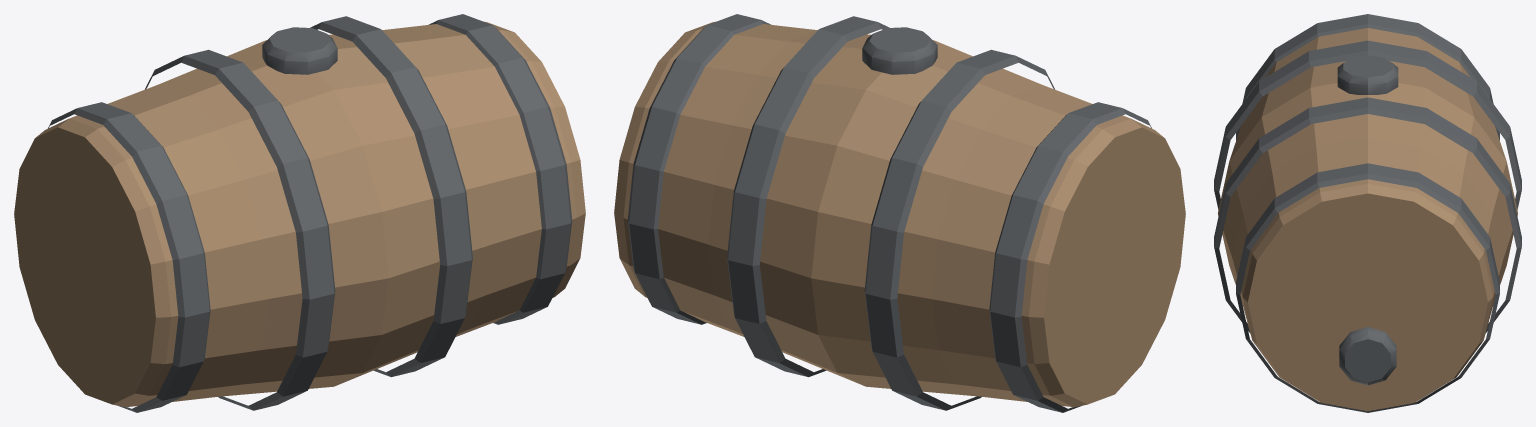
Rendered from bar-pub-and-brewery-taproom-cask-pin-56ca8c49__18353.glb.
The picture shows the model from 3 angles, left to right: view 1: azimuth 30°, elevation 25°; view 2: azimuth 150°, elevation 25°; view 3: azimuth 270°, elevation 25°; orthographic projection. The views are drawn at different scales.
Visible parts, largest first — view 1: cask-pin; view 2: cask-pin; view 3: cask-pin.
Part boxes in pixels (x1,y1,x2,y2): cask-pin: (14,14,585,412); cask-pin: (614,14,1185,412); cask-pin: (1214,14,1521,412).
Bounding box in the file's own units: 0.436 × 0.3157 × 0.3074.
